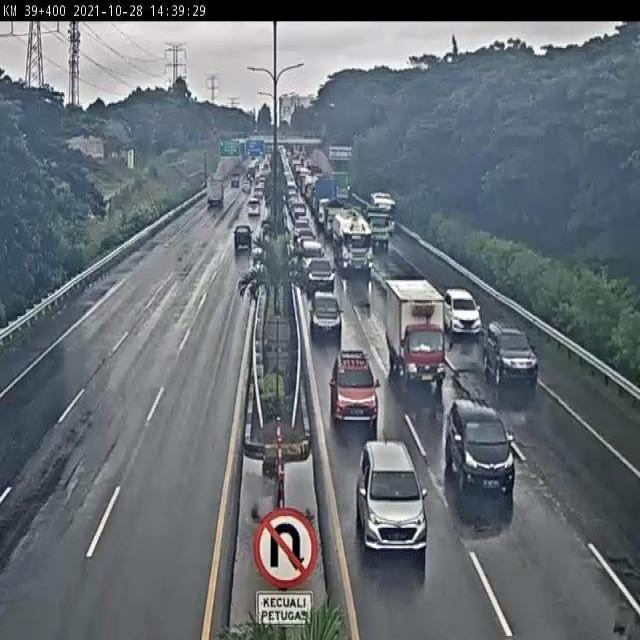big truck: (332, 209, 374, 275)
car: (353, 438, 432, 562), (441, 396, 519, 499), (326, 352, 384, 423), (487, 316, 540, 392), (439, 281, 483, 343), (309, 284, 346, 349), (301, 252, 337, 297), (224, 225, 254, 259), (244, 186, 271, 206), (234, 176, 254, 195), (245, 198, 264, 218)
small truck: (381, 272, 448, 393), (365, 200, 394, 253), (201, 172, 231, 215)
